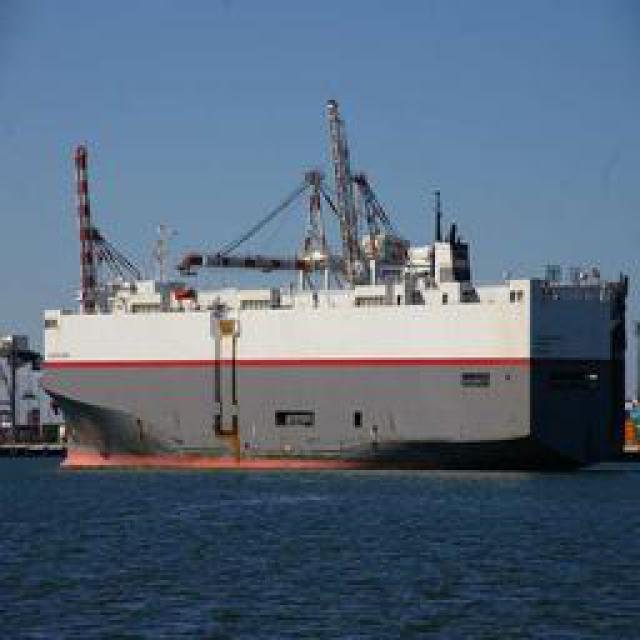Ship: (40, 73, 608, 458)
